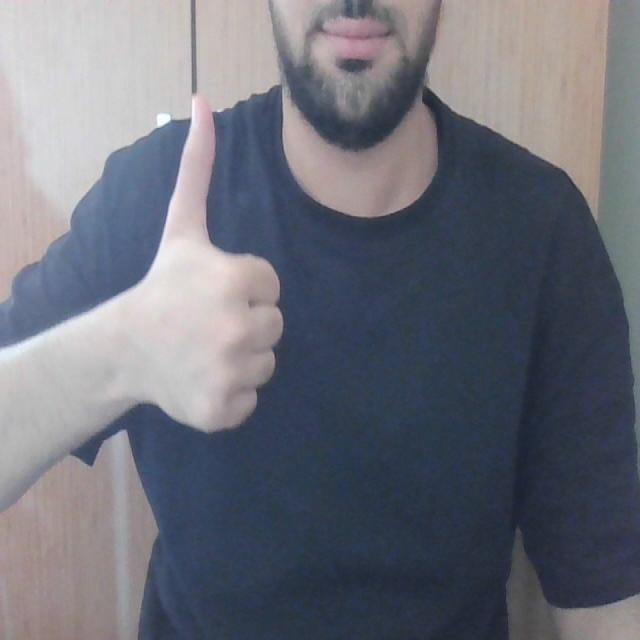Tamam: (133, 91, 293, 438)
